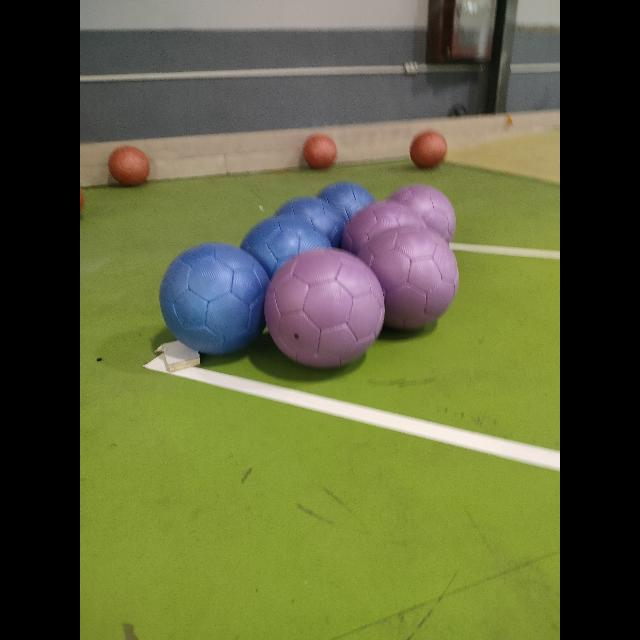B: (160, 242, 268, 354), (242, 219, 328, 291), (274, 197, 346, 247)
P: (265, 248, 385, 368), (360, 224, 456, 328), (352, 201, 422, 269), (388, 184, 457, 242)
R: (109, 147, 150, 186), (409, 131, 446, 167), (303, 134, 337, 168)
